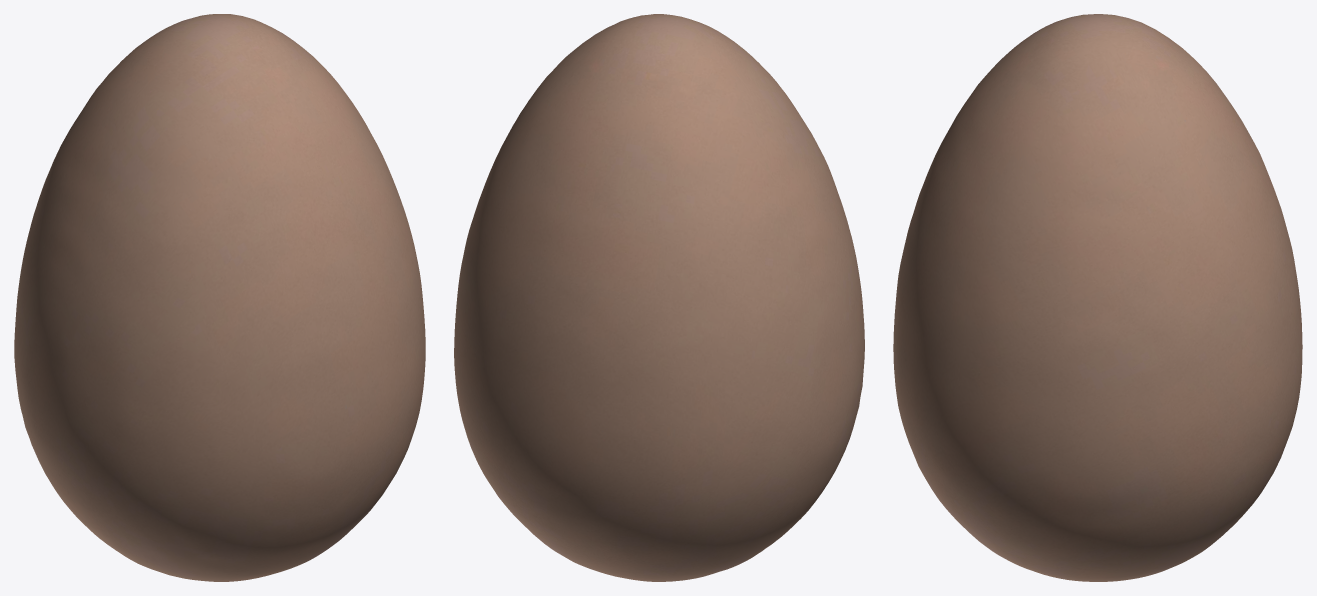
File: Soeuf.fbx
3 renders of one model, left to right at view 1: azimuth 30°, elevation 25°; view 2: azimuth 150°, elevation 25°; view 3: azimuth 270°, elevation 25°, orthographic.
Visible parts, largest first — view 1: mesh; view 2: mesh; view 3: mesh.
Boxes of the visible parts, <box> form: mesh: <box>14,14,425,581</box>; mesh: <box>454,14,864,581</box>; mesh: <box>893,14,1302,581</box>.
Size of the model in its own units: 68.61 by 99.98 by 68.63.
